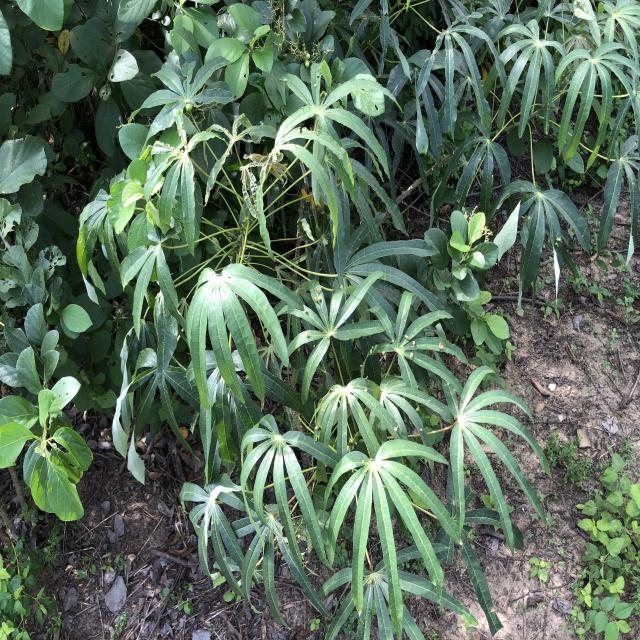Maleza: (0, 107, 78, 530), (436, 208, 505, 299), (458, 278, 516, 356)
Mosca: (360, 370, 379, 400), (404, 328, 420, 361), (298, 303, 316, 321), (308, 292, 327, 308), (391, 419, 402, 441), (300, 325, 314, 342), (376, 348, 388, 363), (436, 339, 448, 353), (311, 419, 321, 435)
